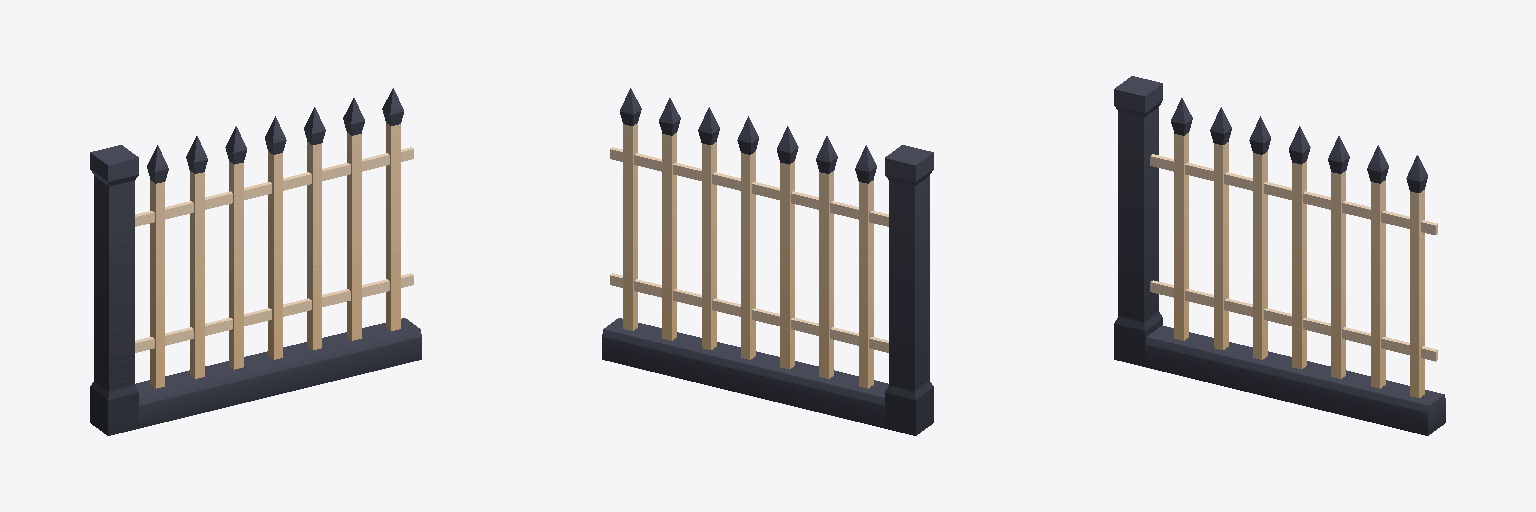
3 renders of one model, left to right at view 1: azimuth 30°, elevation 25°; view 2: azimuth 150°, elevation 25°; view 3: azimuth 330°, elevation 25°, orthographic.
Visible parts, largest first — view 1: iron-fence-border-column.003; view 2: iron-fence-border-column.003; view 3: iron-fence-border-column.003.
Boxes of the visible parts, <box> form: iron-fence-border-column.003: <box>90,88,421,435</box>; iron-fence-border-column.003: <box>602,88,933,435</box>; iron-fence-border-column.003: <box>1114,76,1445,435</box>.
Bounding box in the file's own units: 2.45 × 2.02 × 0.245.
Materials: 1 (1 with a texture image).